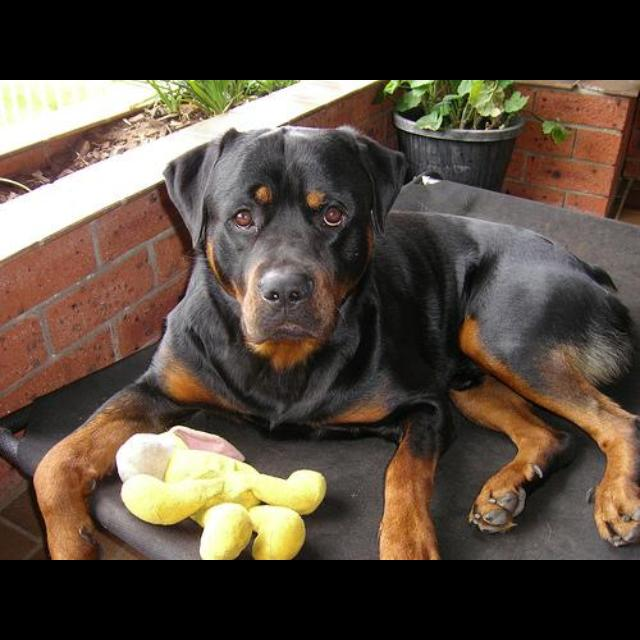rottweiler: (32, 125, 640, 560)
